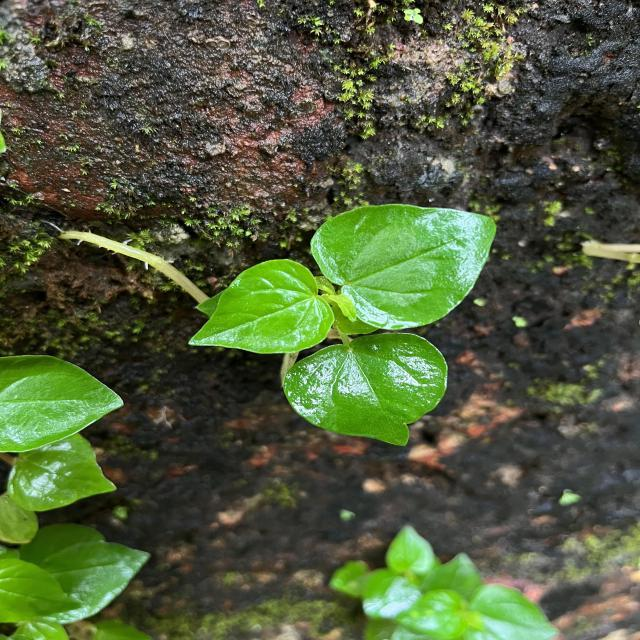Peperomia pellucida: (308, 202, 498, 334), (283, 331, 452, 449)
